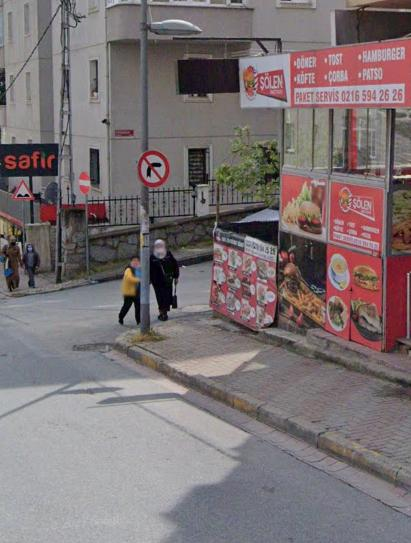rightturnsareforbidden: (138, 149, 170, 188)
